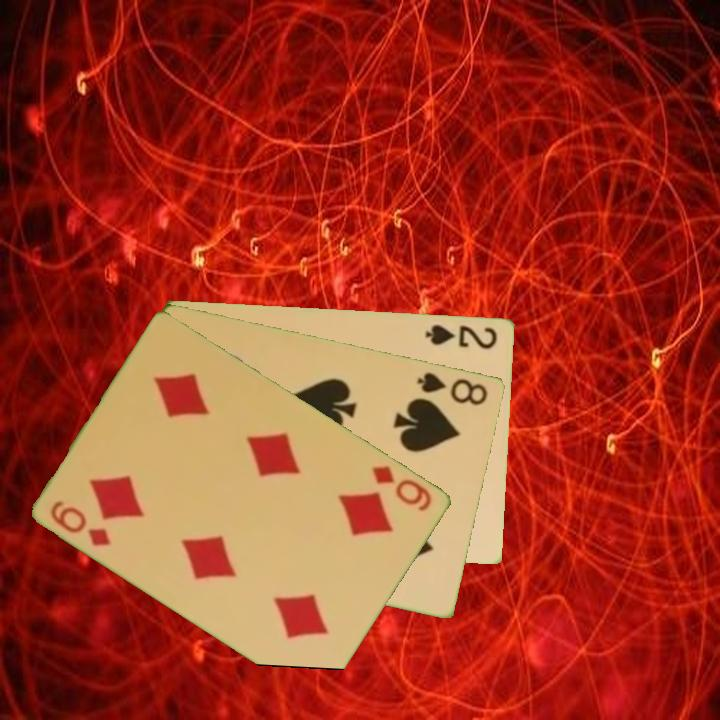2s: (422, 320, 501, 352)
6d: (47, 496, 115, 549), (369, 461, 436, 514)
8s: (414, 368, 491, 408)
